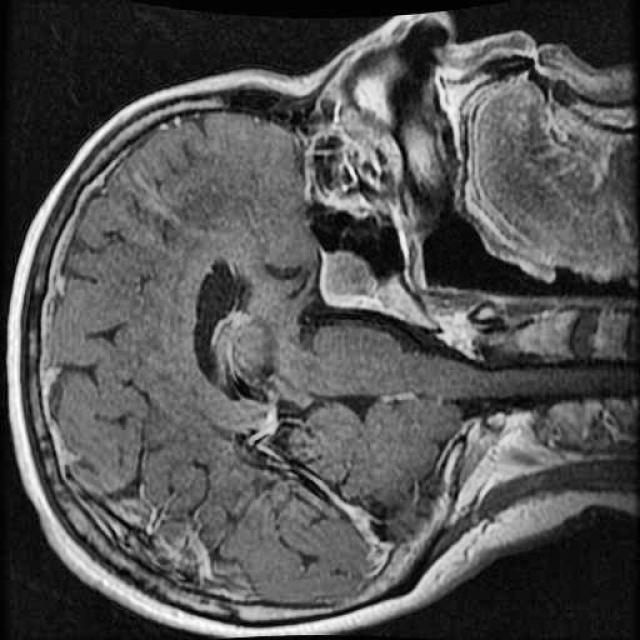Tumor: (301, 244, 391, 324)
